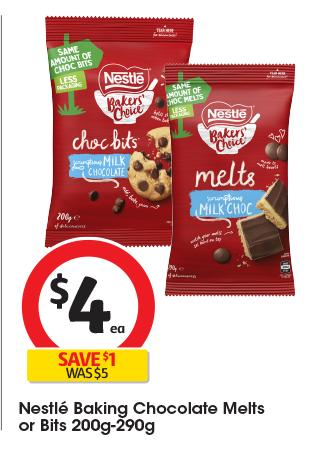description_block: (8, 396, 273, 441)
price_main: (12, 265, 156, 350)
product_image_block: (25, 8, 296, 298)
promo_text_block: (10, 344, 166, 388)
